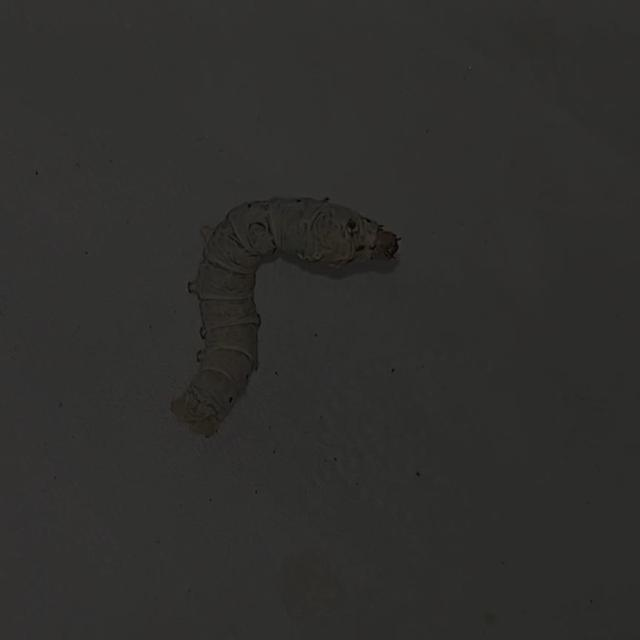Healthy: (151, 168, 412, 460)
